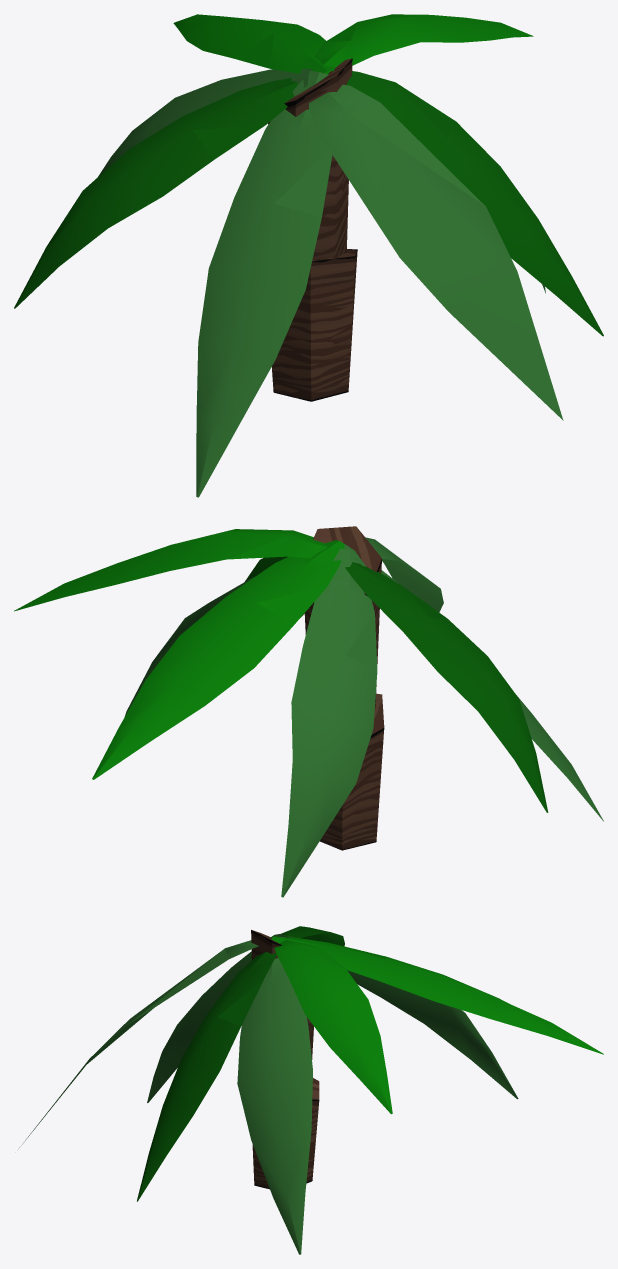
The model's file is coconut_tree(low).fbx.
3 renders of one model, top to bottom at view 1: azimuth 30°, elevation 25°; view 2: azimuth 150°, elevation 25°; view 3: azimuth 270°, elevation 25°, orthographic. The views are drawn at different scales.
Parts seen in each view (by area): view 1: tree_l, tree; view 2: tree_l, tree; view 3: tree_l, tree.
Part boxes in pixels (left/top/right/bottom): tree_l: left=14, top=14, right=603, bottom=497; tree: left=268, top=58, right=357, bottom=401; tree_l: left=14, top=529, right=603, bottom=897; tree: left=304, top=526, right=384, bottom=850; tree_l: left=19, top=926, right=603, bottom=1254; tree: left=251, top=930, right=319, bottom=1189.
Size of the model in its own units: 11.19 by 6.27 by 13.25.
4 materials, 1 textured.
